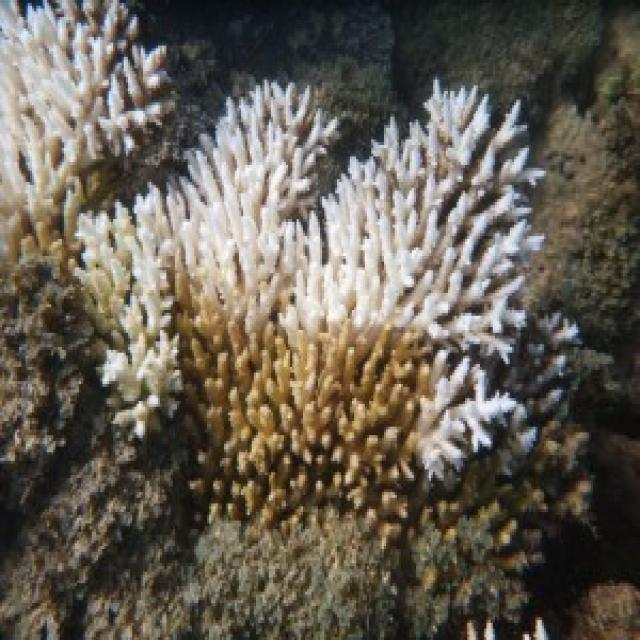Bleached: (298, 103, 530, 368), (1, 1, 174, 257), (74, 203, 180, 436), (180, 81, 338, 237), (406, 83, 490, 163)
Healthy: (182, 311, 419, 533)
